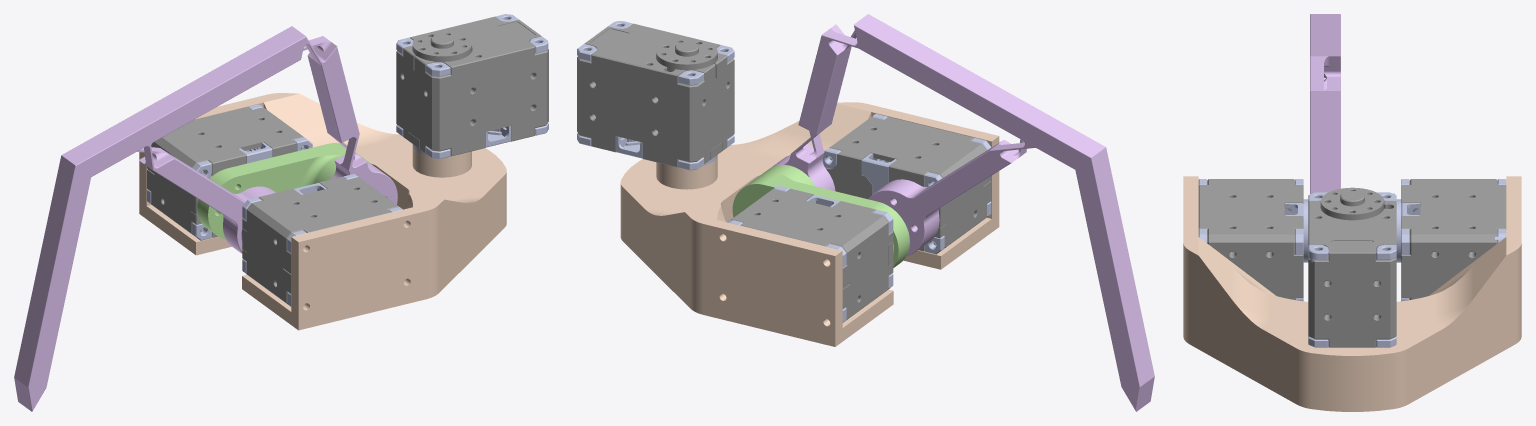
3 views of the same model, side by side, from view 1: azimuth 30°, elevation 25°; view 2: azimuth 150°, elevation 25°; view 3: azimuth 270°, elevation 25° (orthographic). The views are drawn at different scales.
Visible parts, largest first — view 1: YawJoint-1, LegFlexure-1, XL-430_new.stp-3/DC11_A01_DUMMY_1.stp-1, XL-430_new.stp-1/DC11_A01_DUMMY_1.stp-1, XL-430_new.stp-2/DC11_A01_DUMMY_1.stp-1, LegLinkage-1; view 2: YawJoint-1, LegFlexure-1, XL-430_new.stp-3/DC11_A01_DUMMY_1.stp-1, XL-430_new.stp-1/DC11_A01_DUMMY_1.stp-1, XL-430_new.stp-2/DC11_A01_DUMMY_1.stp-1, LegLinkage-1, XL-430_new.stp-1/DC11_A01_CASE_CVR_DUMMY_1.stp-1; view 3: YawJoint-1, XL-430_new.stp-3/DC11_A01_DUMMY_1.stp-1, XL-430_new.stp-1/DC11_A01_DUMMY_1.stp-1, XL-430_new.stp-2/DC11_A01_DUMMY_1.stp-1, LegFlexure-1, XL-430_new.stp-1/DC11_A01_IDLER_DUMMY_1.stp-1, XL-430_new.stp-2/DC11_A01_IDLER_DUMMY_1.stp-1, XL-430_new.stp-3/DC11_A01_SPACER_DUMMY_1.stp-9, XL-430_new.stp-3/DC11_A01_SPACER_DUMMY_1.stp-10.
Part boxes in pixels (bbox=[...]): YawJoint-1: bbox=[139, 93, 506, 330]; LegFlexure-1: bbox=[14, 26, 397, 411]; XL-430_new.stp-3/DC11_A01_DUMMY_1.stp-1: bbox=[396, 16, 548, 156]; XL-430_new.stp-1/DC11_A01_DUMMY_1.stp-1: bbox=[242, 177, 398, 306]; XL-430_new.stp-2/DC11_A01_DUMMY_1.stp-1: bbox=[147, 107, 303, 237]; LegLinkage-1: bbox=[197, 143, 371, 239]; YawJoint-1: bbox=[620, 102, 999, 346]; LegFlexure-1: bbox=[771, 14, 1154, 411]; XL-430_new.stp-3/DC11_A01_DUMMY_1.stp-1: bbox=[577, 23, 734, 167]; XL-430_new.stp-1/DC11_A01_DUMMY_1.stp-1: bbox=[825, 116, 991, 251]; XL-430_new.stp-2/DC11_A01_DUMMY_1.stp-1: bbox=[731, 188, 893, 322]; LegLinkage-1: bbox=[732, 164, 909, 267]; XL-430_new.stp-1/DC11_A01_CASE_CVR_DUMMY_1.stp-1: bbox=[862, 153, 896, 194]; YawJoint-1: bbox=[1183, 176, 1521, 411]; XL-430_new.stp-3/DC11_A01_DUMMY_1.stp-1: bbox=[1308, 187, 1396, 347]; XL-430_new.stp-1/DC11_A01_DUMMY_1.stp-1: bbox=[1198, 179, 1303, 299]; XL-430_new.stp-2/DC11_A01_DUMMY_1.stp-1: bbox=[1401, 179, 1506, 299]; LegFlexure-1: bbox=[1310, 14, 1340, 194]; XL-430_new.stp-1/DC11_A01_IDLER_DUMMY_1.stp-1: bbox=[1303, 199, 1308, 262]; XL-430_new.stp-2/DC11_A01_IDLER_DUMMY_1.stp-1: bbox=[1396, 199, 1401, 262]; XL-430_new.stp-3/DC11_A01_SPACER_DUMMY_1.stp-9: bbox=[1308, 244, 1328, 262]; XL-430_new.stp-3/DC11_A01_SPACER_DUMMY_1.stp-10: bbox=[1376, 244, 1396, 260].
Bounding box in the file's own units: 0.2077 × 0.1173 × 0.1095.
